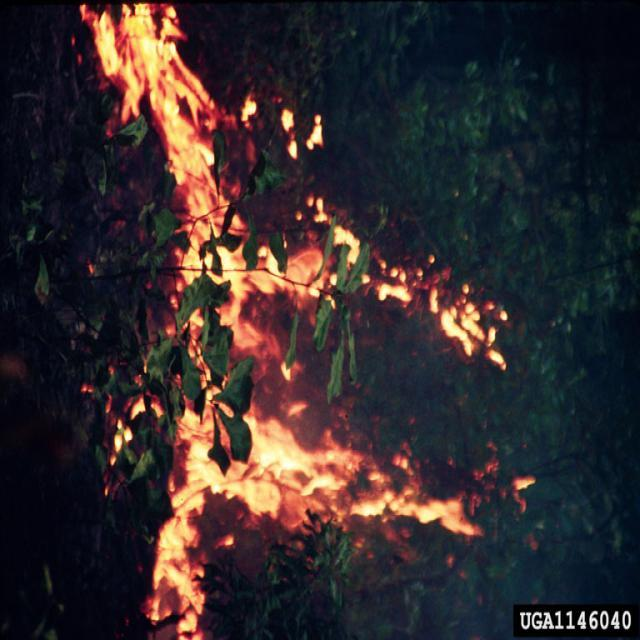Fire: (79, 0, 536, 640)
